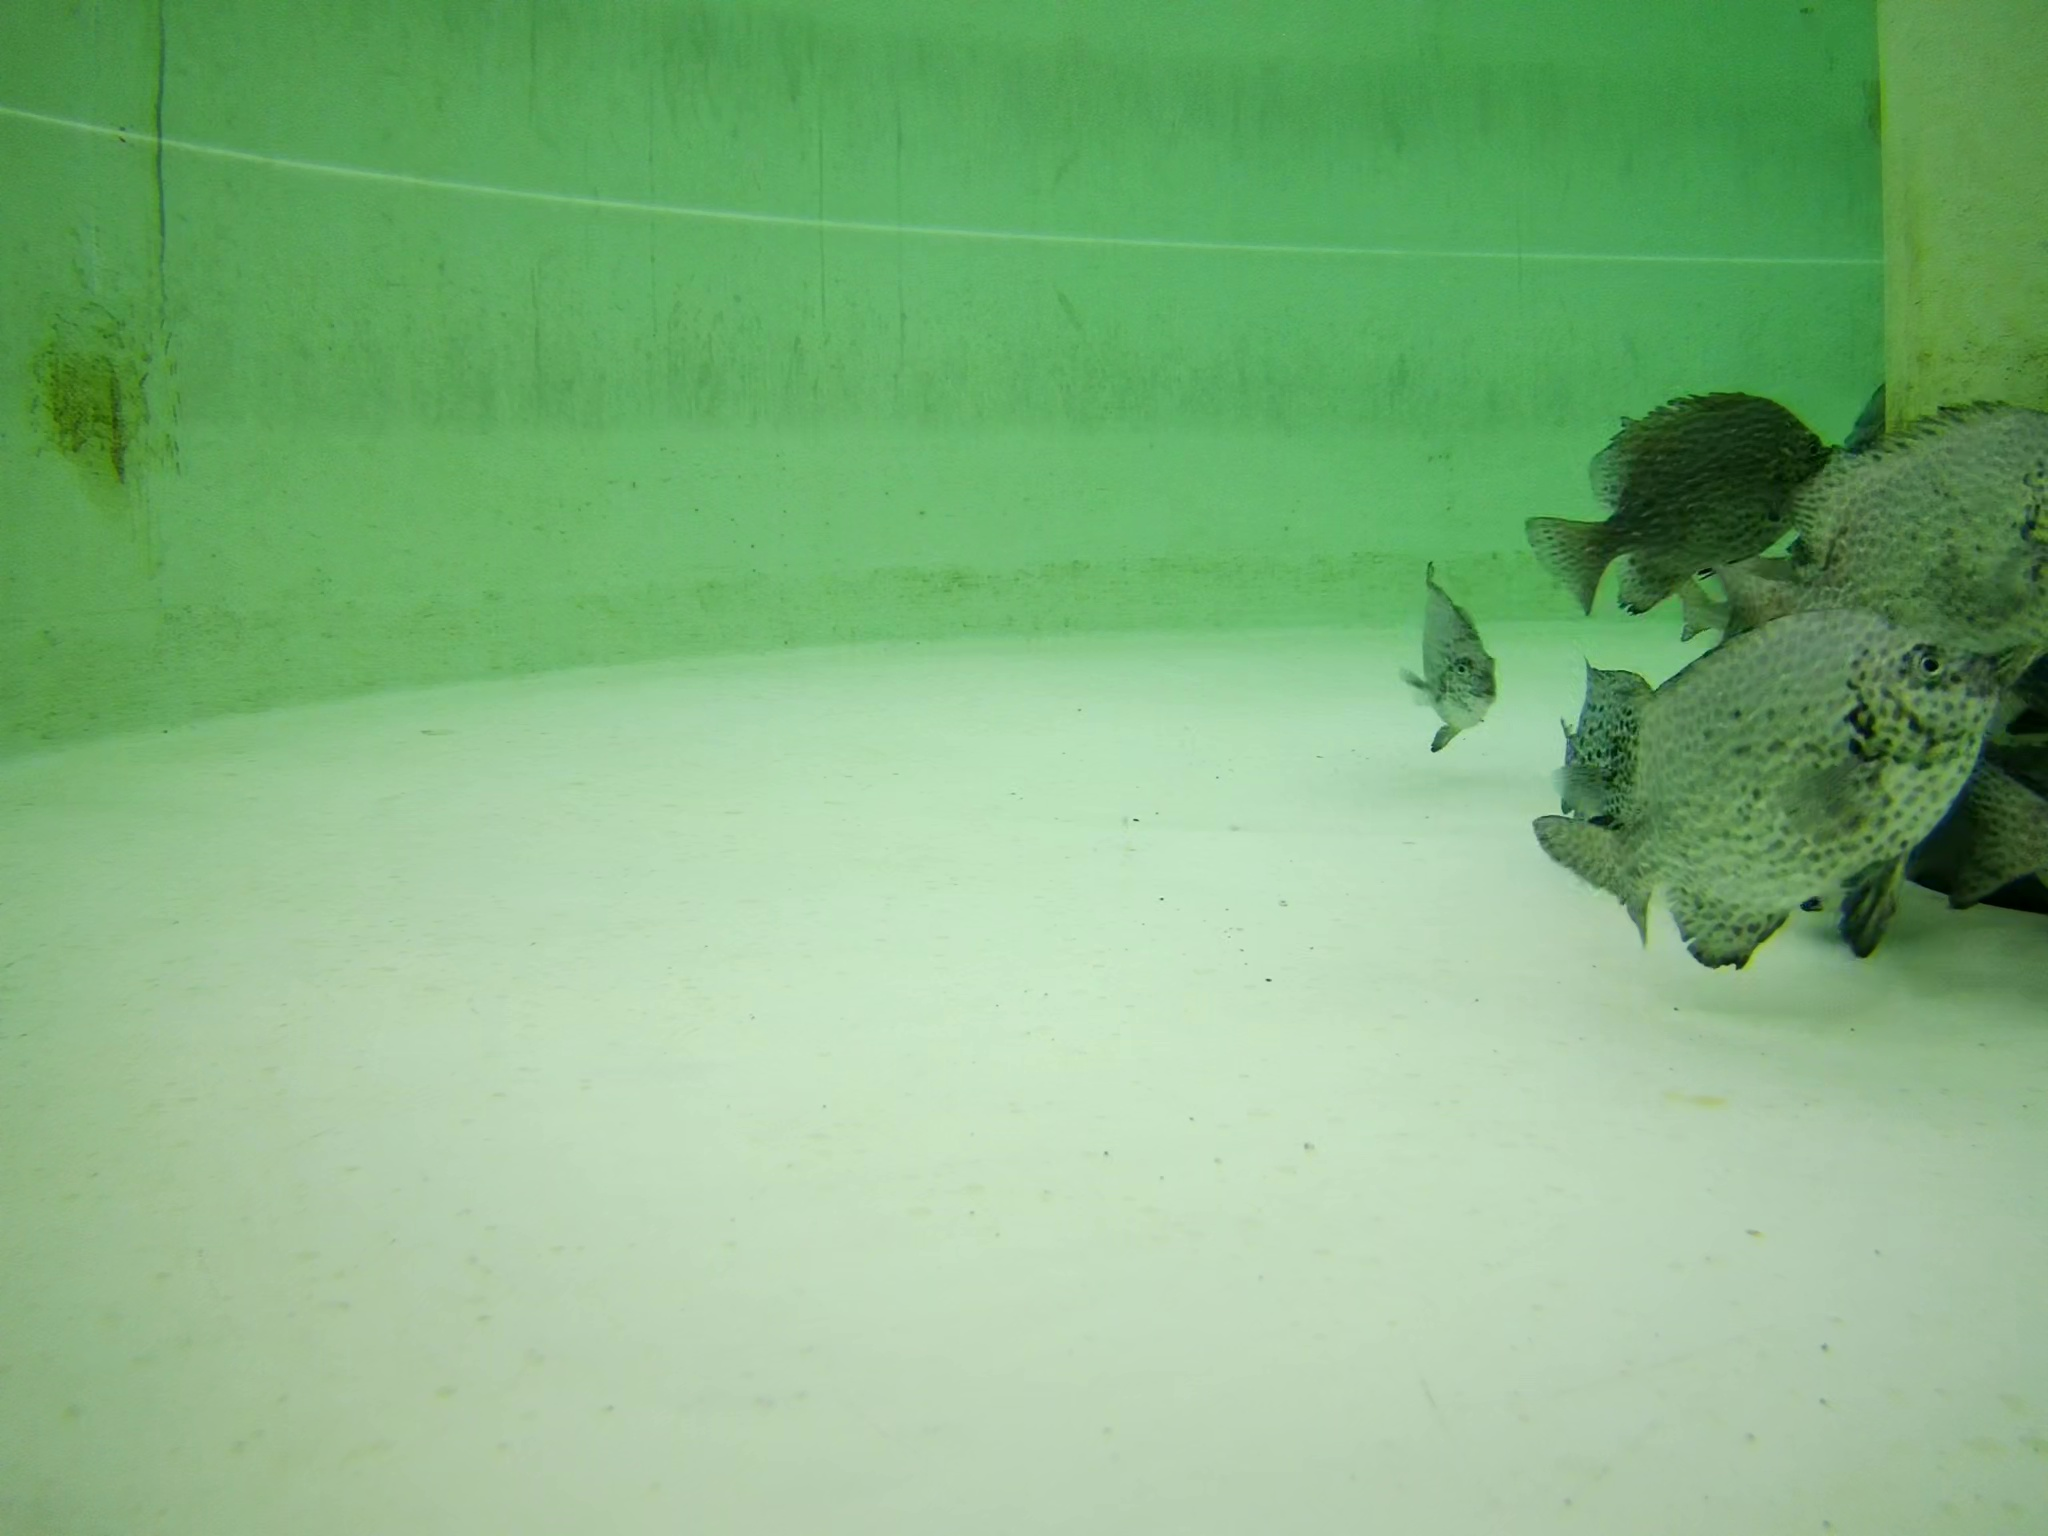fish: (1582, 591, 2022, 1002), (1722, 395, 2048, 637), (1535, 386, 1851, 602), (1908, 752, 2048, 904), (1566, 637, 1667, 803), (1409, 565, 1501, 739)
